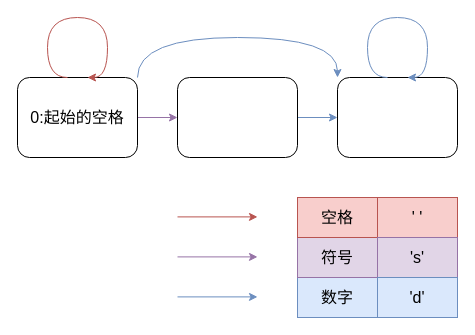
The diagram is 475 pixels wide and 335 high, and some of its shapes have lost their labels. The shapes that lost their labels are listed below. From the top down, each one's centre as x and y in pixels, then its label:
At point (237, 117): "1:符号位".
At point (397, 117): "2:整数部分".
